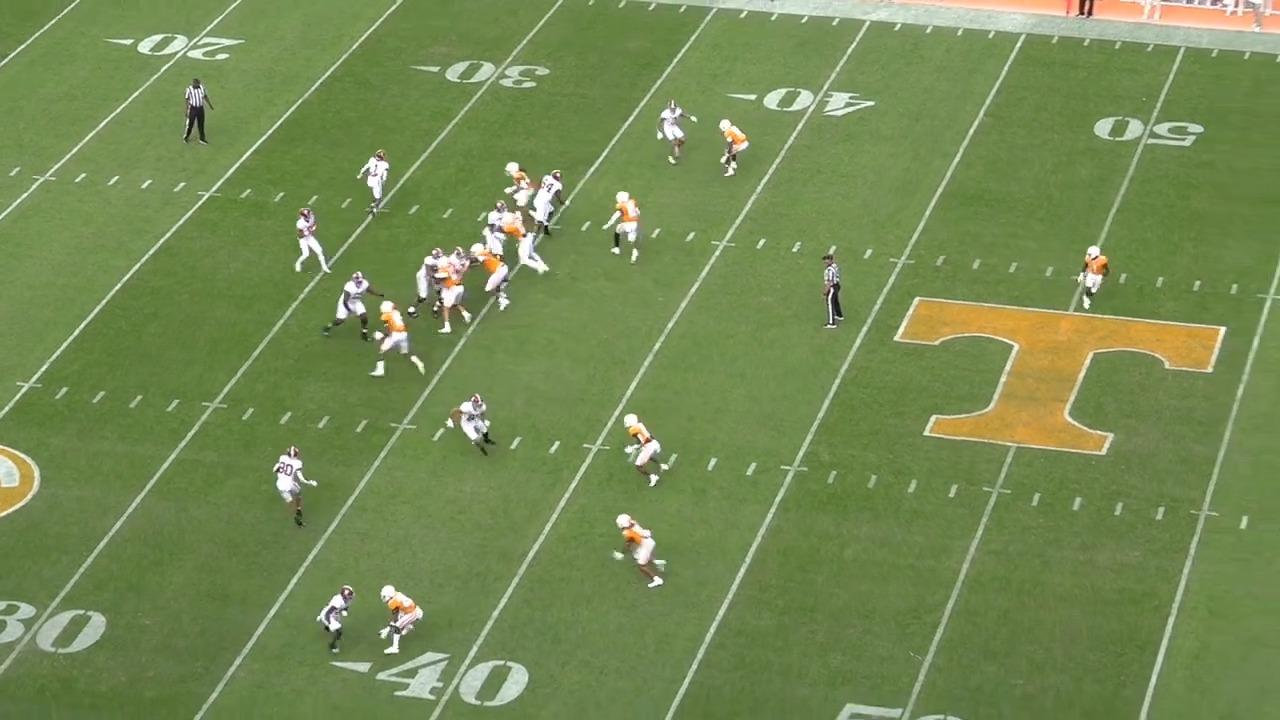player: (608, 509, 668, 590), (265, 446, 315, 536), (371, 300, 429, 377), (619, 407, 670, 489), (326, 269, 384, 340), (450, 391, 504, 461), (499, 208, 549, 282), (373, 580, 420, 658), (468, 243, 514, 317), (317, 582, 361, 659), (655, 99, 700, 170), (607, 190, 648, 267), (437, 251, 474, 336), (403, 245, 446, 318), (286, 207, 330, 278), (357, 146, 395, 216), (530, 169, 566, 242), (1075, 242, 1111, 311), (719, 114, 753, 179), (480, 199, 514, 263), (501, 162, 533, 212), (445, 245, 470, 265)
ref: (814, 252, 843, 338), (179, 77, 210, 150)
